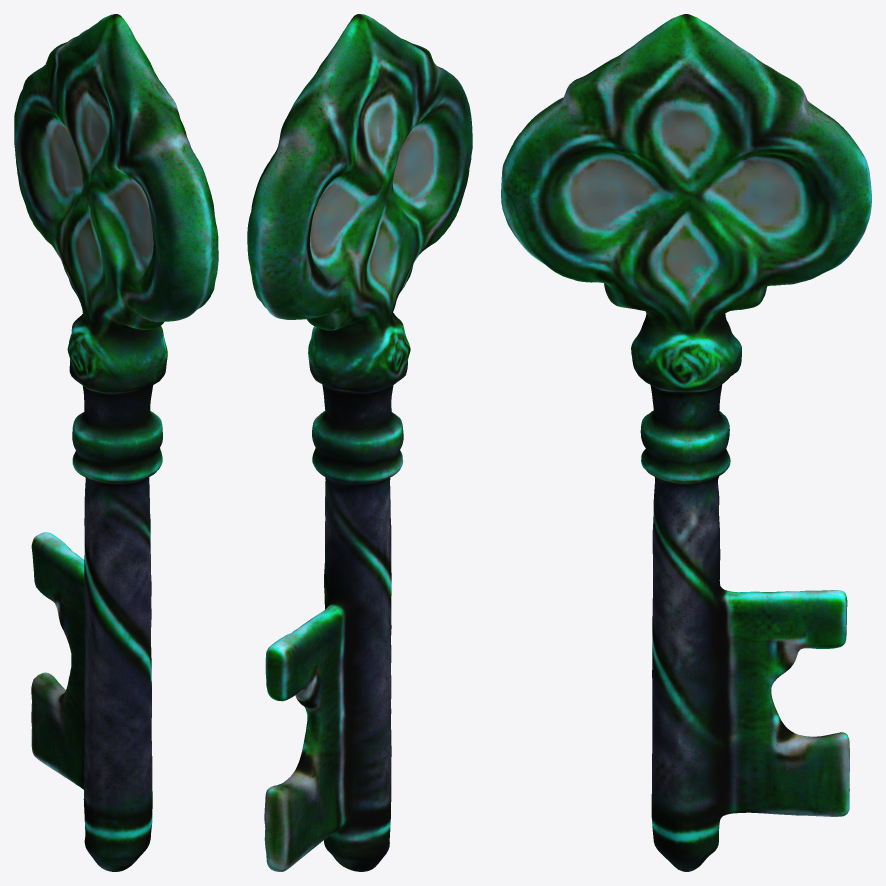
The model's file is llave1.glb.
3 views of the same model, side by side, from view 1: azimuth 30°, elevation 25°; view 2: azimuth 150°, elevation 25°; view 3: azimuth 270°, elevation 25° (orthographic).
Parts seen in each view (by area): view 1: geometry_0; view 2: geometry_0; view 3: geometry_0.
Part boxes in pixels (box(x1,y1,x2,y2)): geometry_0: box(14, 14, 218, 871); geometry_0: box(247, 14, 472, 871); geometry_0: box(501, 14, 871, 871).
Size of the model in its own units: 0.0621 by 0.6055 by 0.2381.
1 material, 1 textured.
